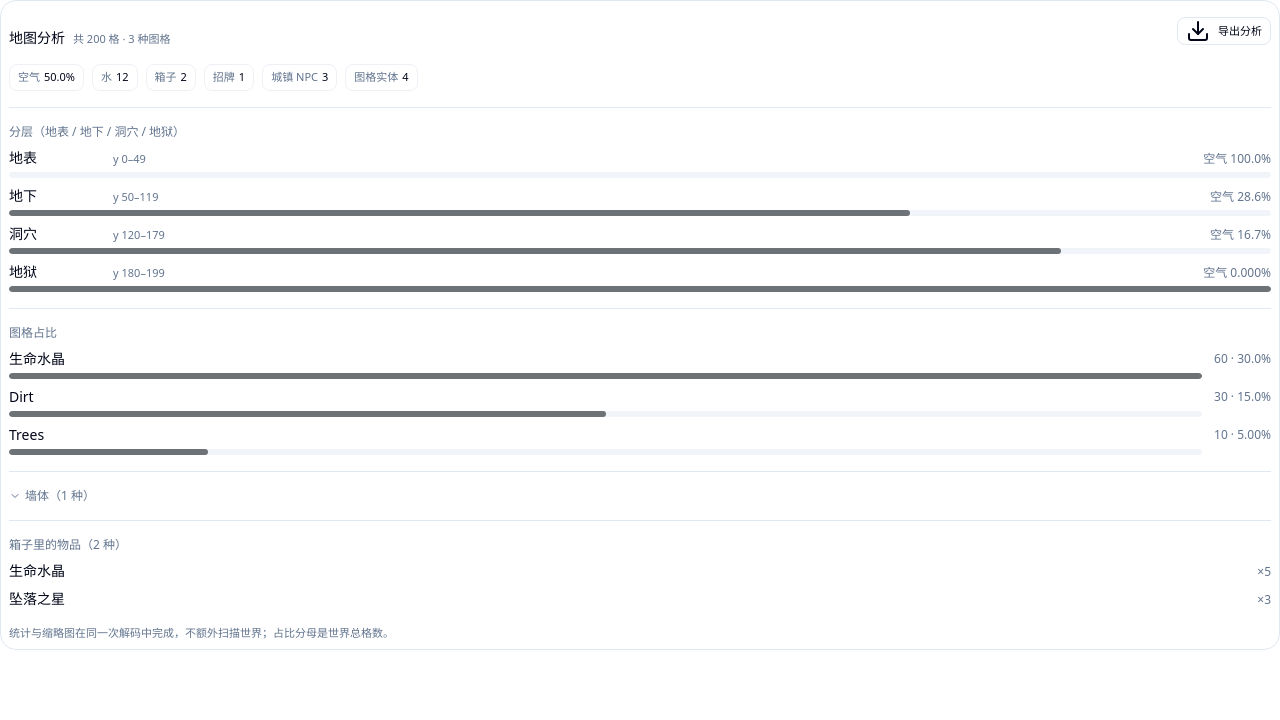
Scenario: WorldAnalysis（地图分析） › 点「箱子」打开明细：逐箱位置与内容
Click the button "箱子 2" at (171, 77), box left=146, top=64, right=196, bottom=90
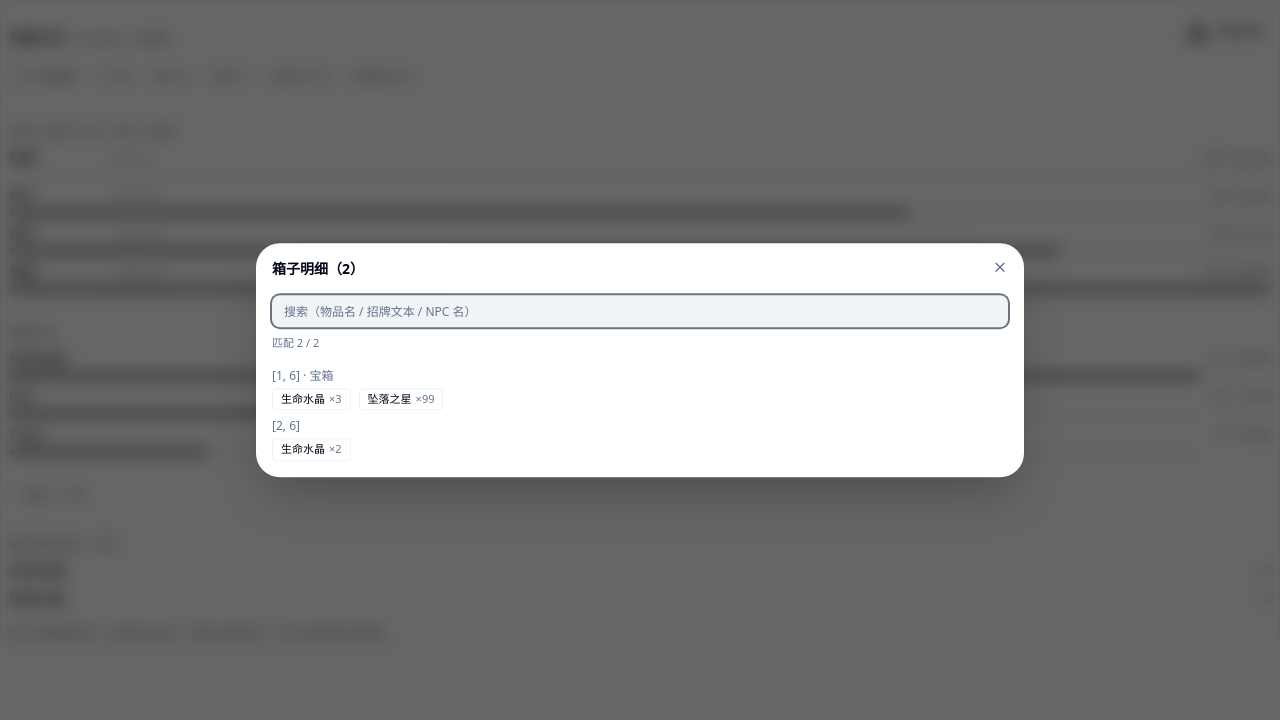
Check: the heading "箱子明细（2）" is shown, box left=272, top=259, right=364, bottom=278
Check: the text "[1, 6] · 宝箱" is shown, box left=272, top=368, right=334, bottom=384
Check: the text "×99" is shown, box left=416, top=391, right=434, bottom=407
